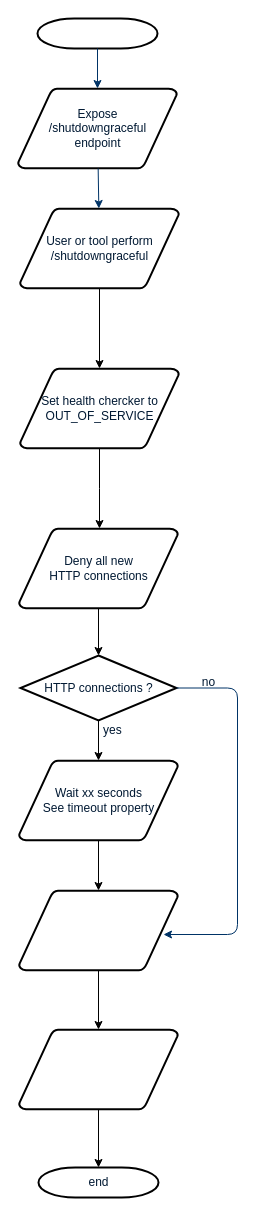
This 263x1215 diagram has some shape labels left out. The centre of each missing label's shape, as x and y in pixels:
"Destroy (gracefuly) Spring Context" goes at pixel 98 930.
"Shutdown HTTP connector" goes at pixel 98 1069.
"start" goes at pixel 97 33.
